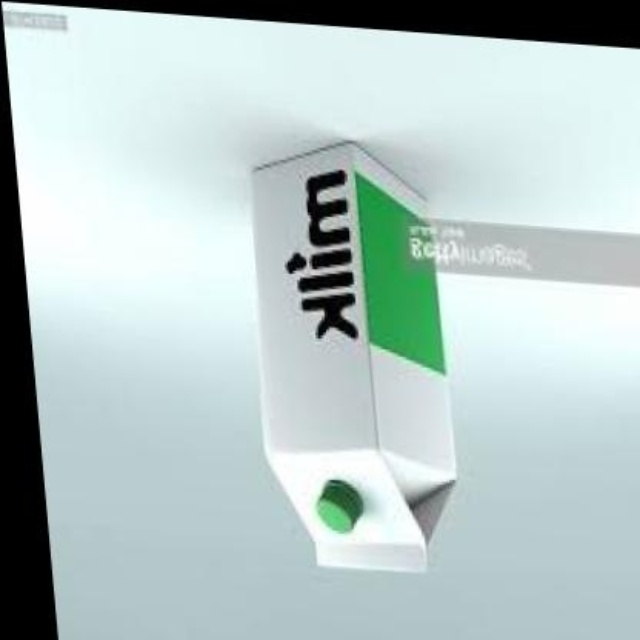trash: (252, 142, 454, 571), (317, 480, 362, 532)
